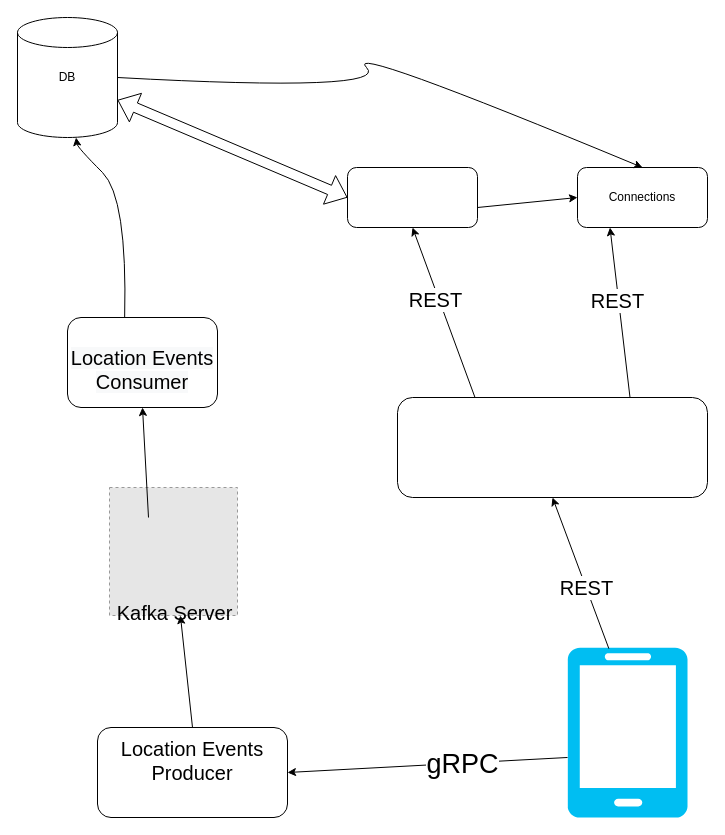
Some shapes in this 725 by 835 pixel diagram are drawn without their labels. Grey dashed boxes stand in for pictures. The centre of each missing label's shape, as x and y in pixels:
"Front-End" belongs at point (552, 447).
"Persons" belongs at point (412, 197).
